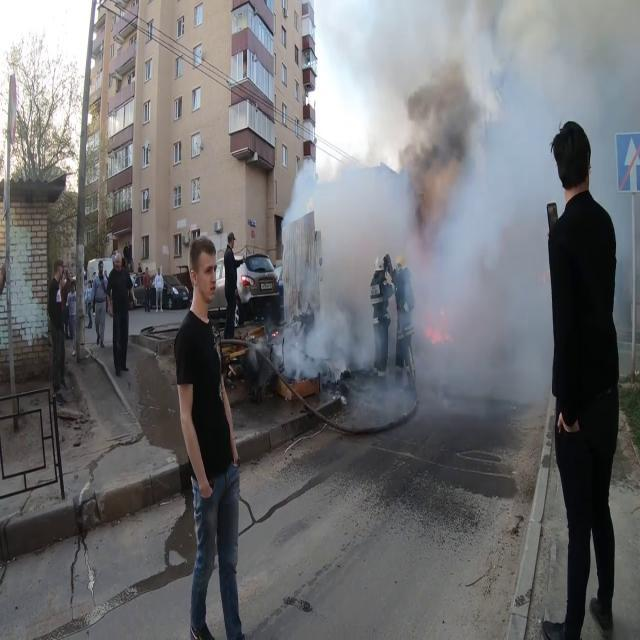Smoke: (278, 0, 639, 421)
